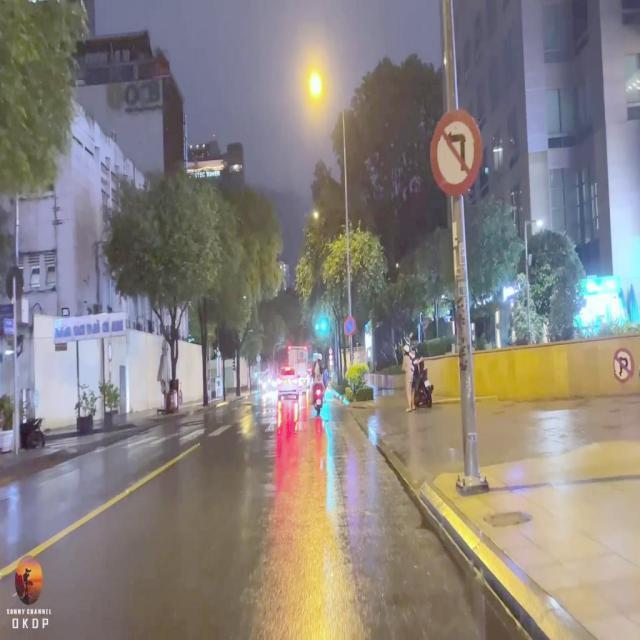123a-cam-re-trai: (428, 109, 482, 192)
